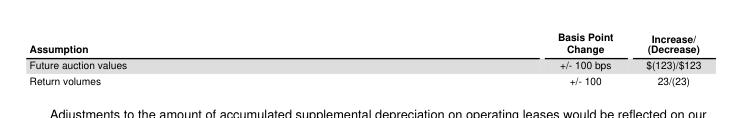table: (28, 28, 700, 86)
table column: (28, 28, 341, 86), (341, 28, 628, 86), (628, 28, 700, 86)
table column header: (28, 28, 700, 71)
table row: (28, 28, 700, 71), (28, 71, 700, 86)
